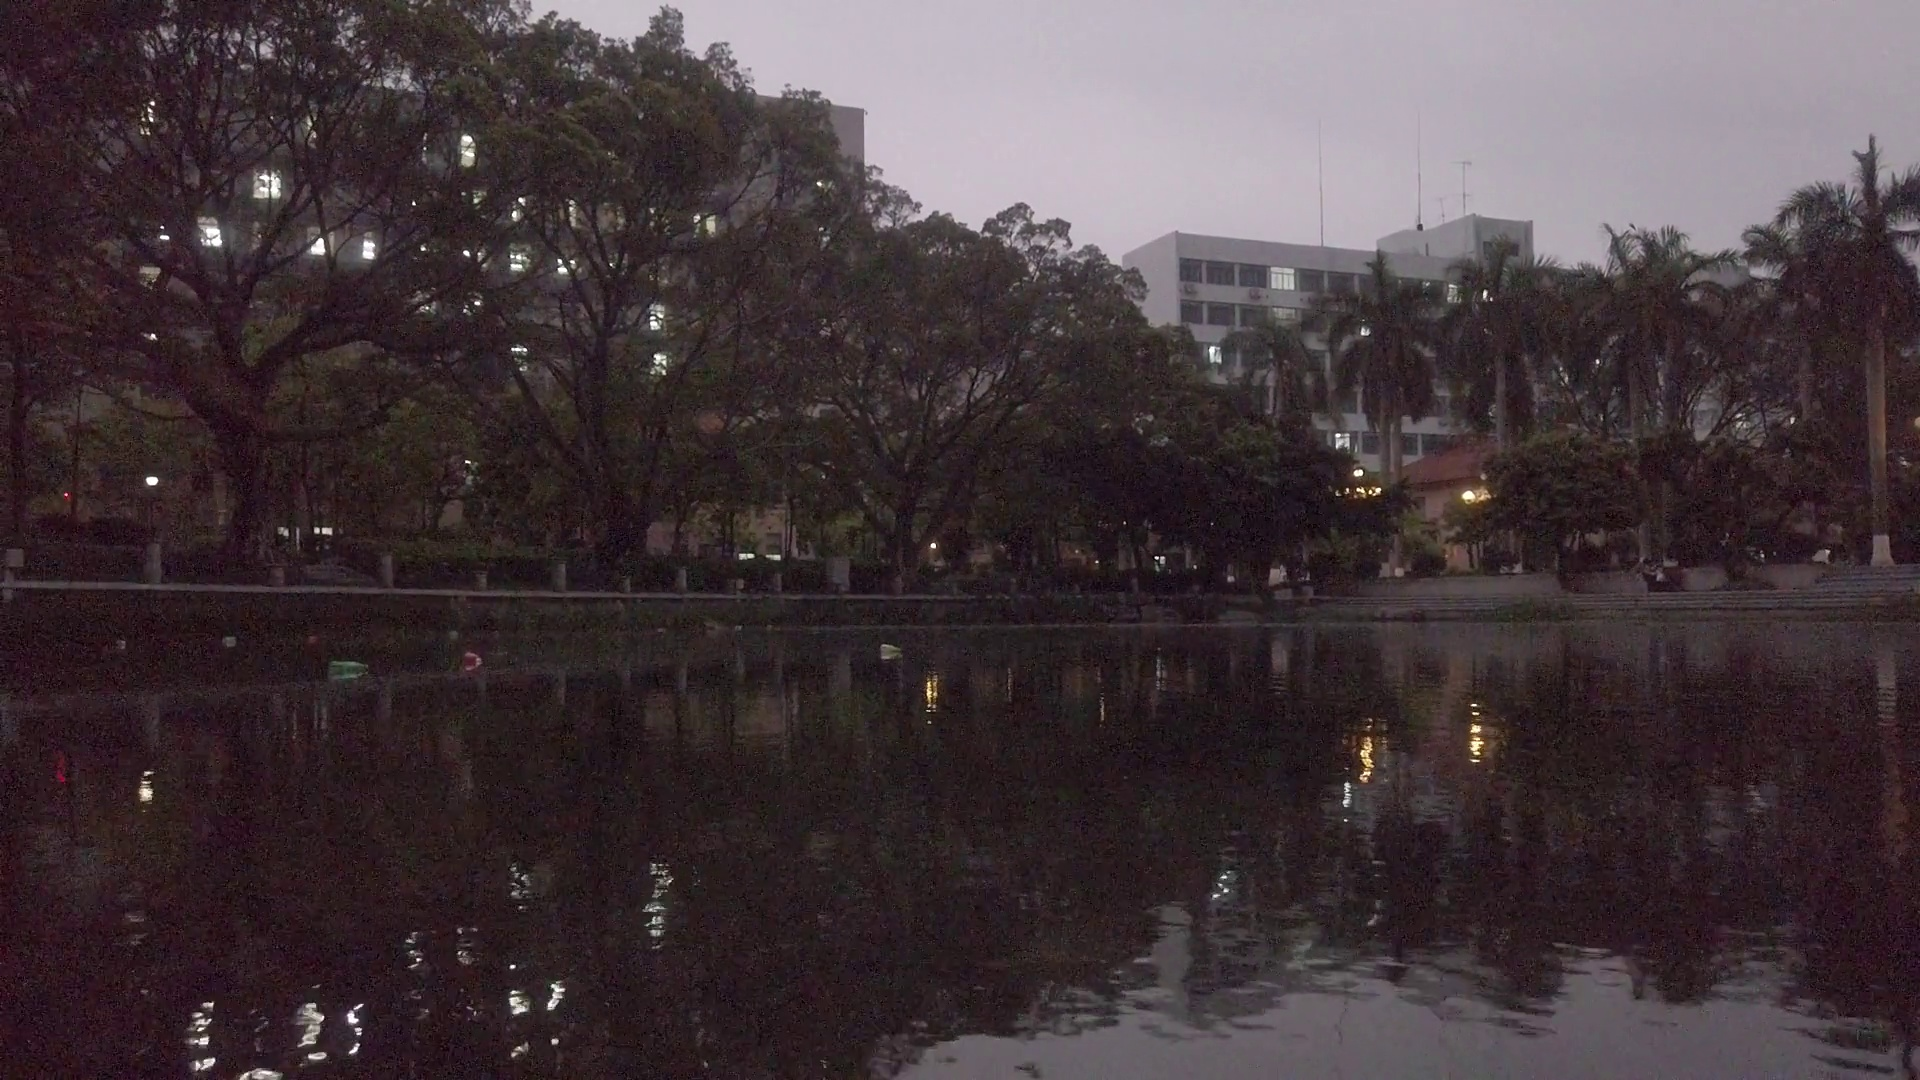bottle: (328, 659, 371, 675), (108, 637, 129, 655), (301, 628, 319, 646), (878, 644, 905, 655), (464, 650, 481, 665), (728, 618, 742, 633)
carton: (218, 633, 237, 649)
